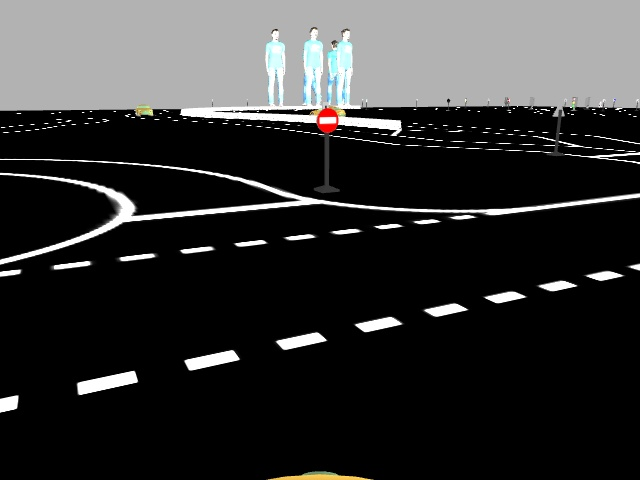NoEntry: (313, 107, 339, 134)
